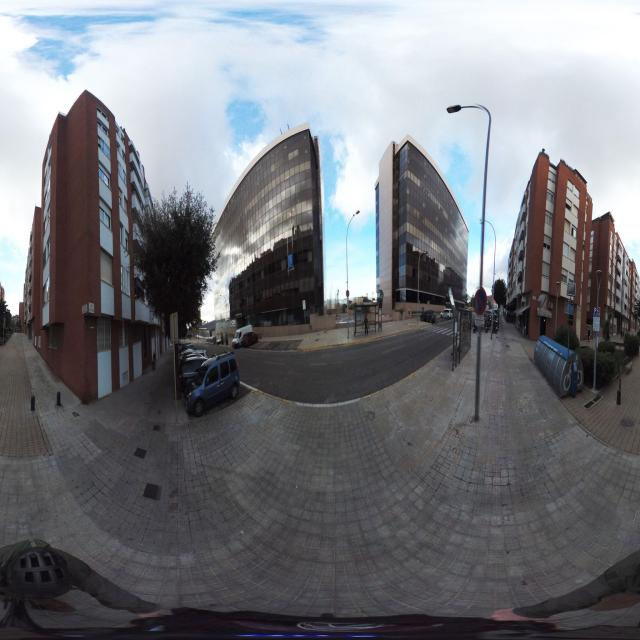forb_stopping: (474, 287, 487, 315)
forb_waiting: (346, 290, 349, 298)
